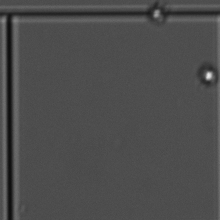Living Cell: (145, 1, 170, 26), (195, 62, 217, 88)
